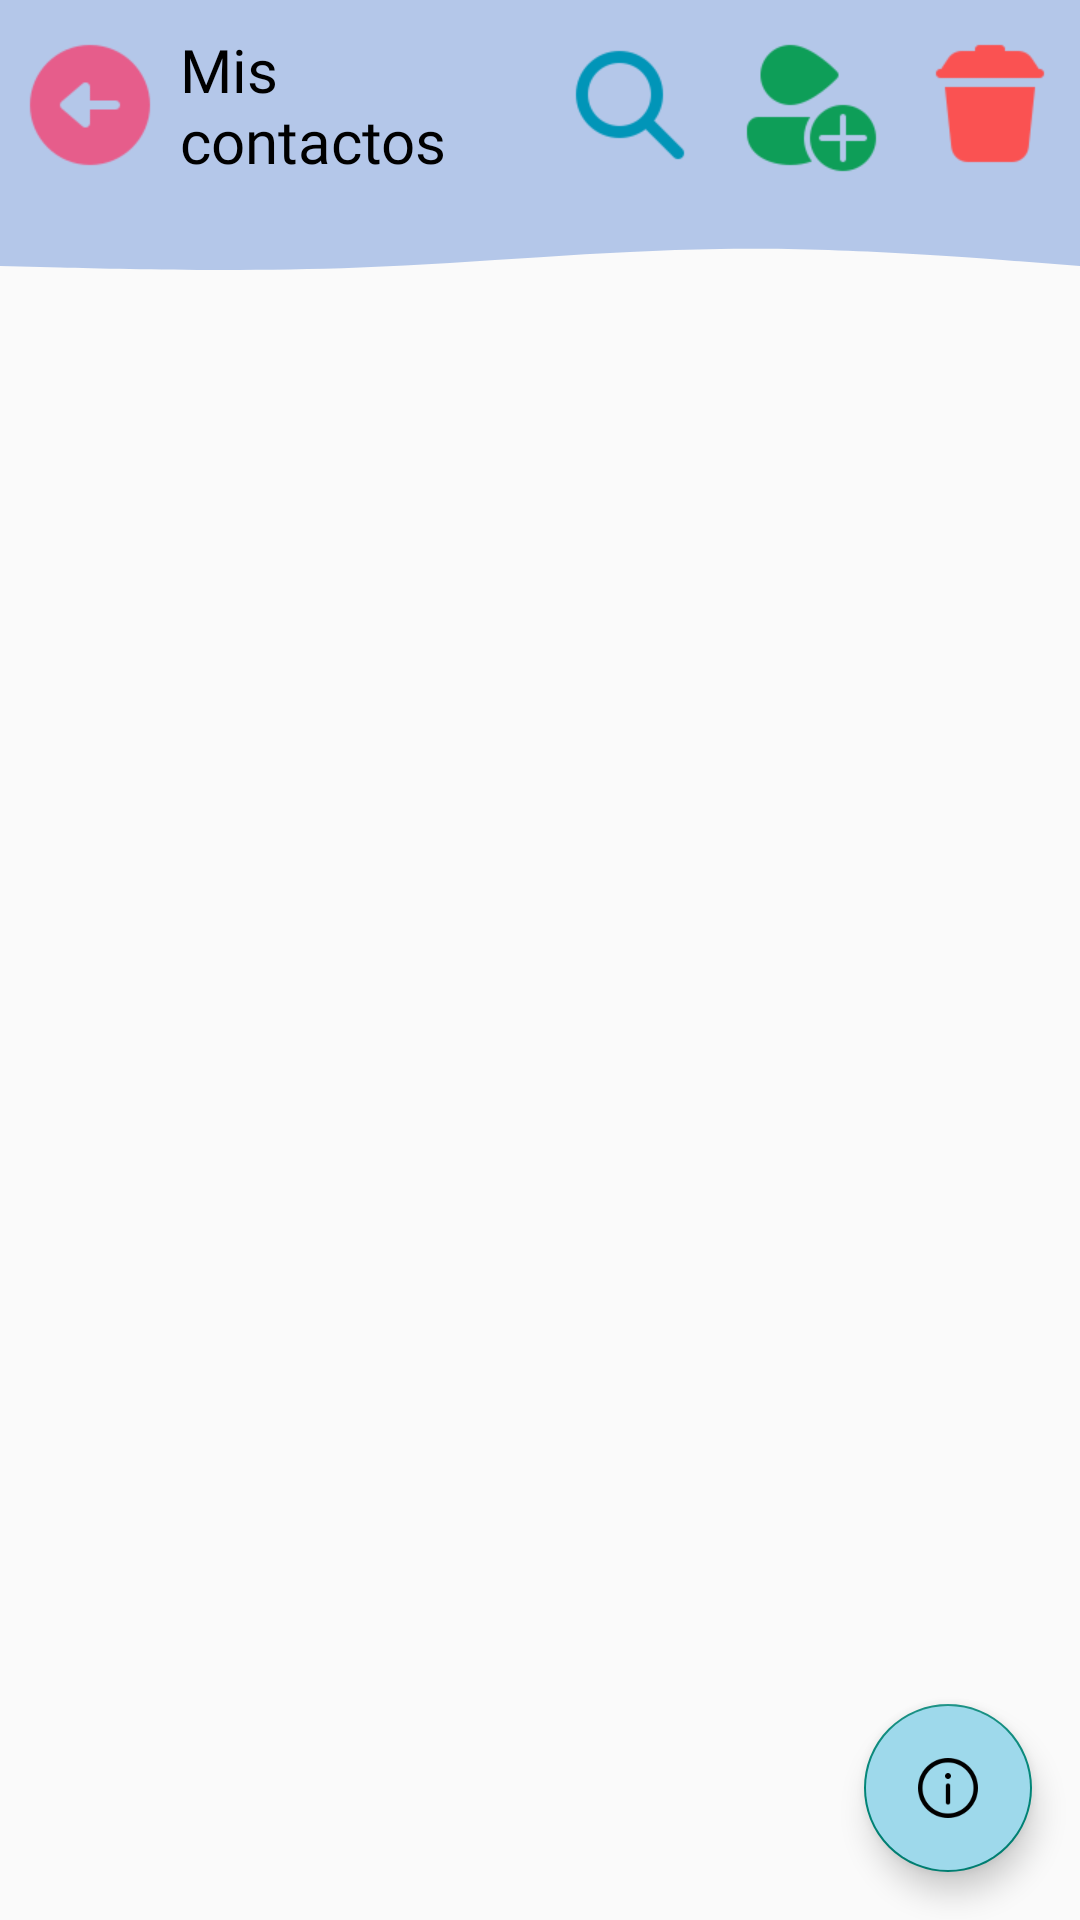

Screen size 1080px x 1920px. Icon name, then its box in pixels as bbox(x1, y1, x2, y2):
agregar contacto: bbox(746, 44, 877, 172)
buscar: bbox(575, 50, 685, 160)
eliminartodo: bbox(935, 44, 1045, 163)
info: bbox(864, 1704, 1032, 1872)
salir: bbox(30, 45, 150, 165)
